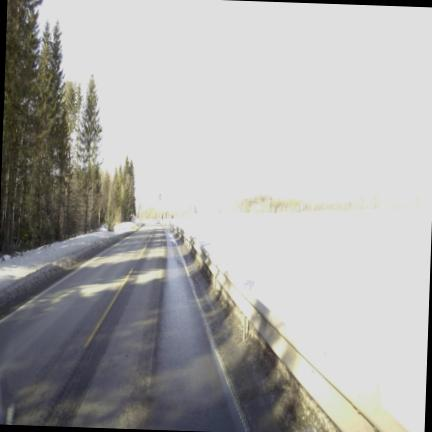Road: (0, 227, 243, 431)
